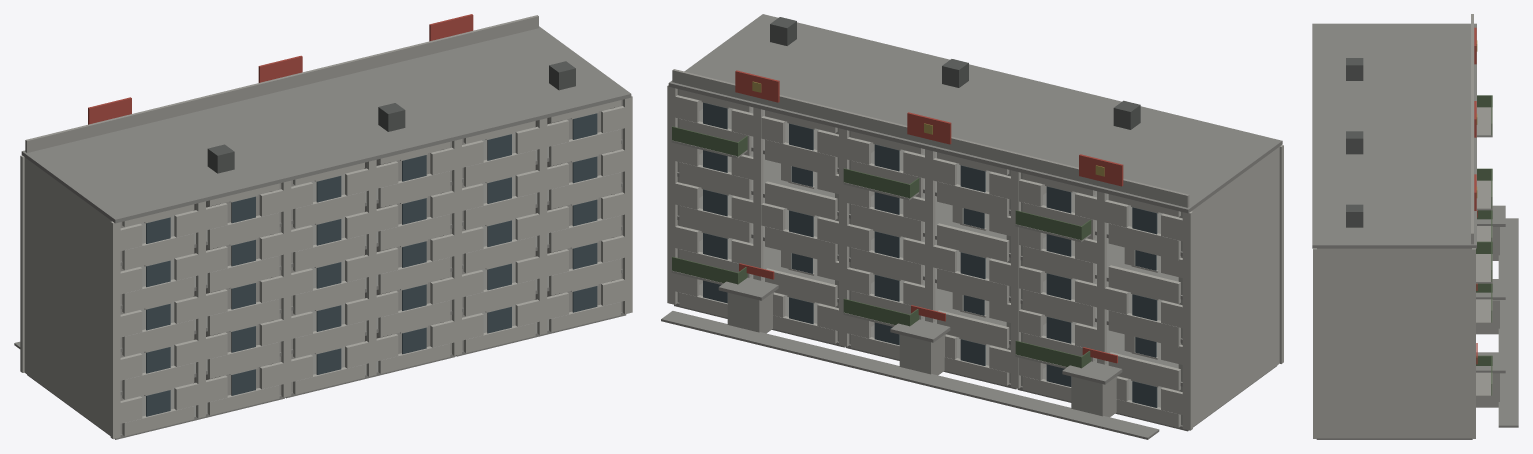
The model's file is b_khrush5.glb.
3 renders of one model, left to right at view 1: azimuth 30°, elevation 25°; view 2: azimuth 150°, elevation 25°; view 3: azimuth 270°, elevation 25°, orthographic. The views are drawn at different scales.
Visible parts, largest first — view 1: roof_s0, roof_s1, roof_s2, wall_s0_f3_r0, wall_s0_f2_r0, wall_s0_f0_r0, wall_s0_f1_r0, wall_s0_f4_r0, wall_s0_f1_w, wall_s0_f2_w, wall_s0_f3_w, wall_s0_f0_w (+33 smaller); view 2: details, roof_s0, roof_s2, roof_s1, wall_s2_f4_l1, wall_s1_f4_l1, wall_s0_f4_l1, wall_s2_f1_l1, wall_s1_f1_l1, wall_s0_f1_l1, wall_s0_f2_l0, wall_s0_f4_l0 (+34 smaller); view 3: roof_s2, roof_s0, roof_s1, details, wall_s2_f0_e, wall_s2_f1_e, wall_s2_f2_e, wall_s2_f3_e, wall_s2_f4_e, wall_s2_f4_l1, wall_s2_f1_l1, wall_s0_f4_l1 (+4 smaller).
Part boxes in pixels (left/top/right/bottom): roof_s0: left=21, top=98, right=290, bottom=223; roof_s1: left=196, top=56, right=460, bottom=180; roof_s2: left=367, top=15, right=631, bottom=139; wall_s0_f3_r0: left=110, top=244, right=205, bottom=309; wall_s0_f2_r0: left=110, top=287, right=205, bottom=352; wall_s0_f0_r0: left=110, top=373, right=205, bottom=439; wall_s0_f1_r0: left=110, top=330, right=205, bottom=395; wall_s0_f4_r0: left=110, top=201, right=205, bottom=266; wall_s0_f1_w: left=24, top=287, right=110, bottom=392; wall_s0_f2_w: left=24, top=243, right=110, bottom=348; wall_s0_f3_w: left=24, top=200, right=110, bottom=305; wall_s0_f0_w: left=24, top=330, right=110, bottom=435; details: left=661, top=70, right=1159, bottom=439; roof_s0: left=1012, top=99, right=1282, bottom=213; roof_s2: left=668, top=14, right=936, bottom=128; roof_s1: left=840, top=56, right=1110, bottom=170; wall_s2_f4_l1: left=667, top=85, right=753, bottom=158; wall_s1_f4_l1: left=839, top=128, right=924, bottom=200; wall_s0_f4_l1: left=1011, top=170, right=1096, bottom=242; wall_s2_f1_l1: left=667, top=216, right=753, bottom=284; wall_s1_f1_l1: left=839, top=258, right=924, bottom=326; wall_s0_f1_l1: left=1011, top=300, right=1096, bottom=368; wall_s0_f2_l0: left=1097, top=277, right=1192, bottom=343; wall_s0_f4_l0: left=1097, top=191, right=1192, bottom=256; roof_s2: left=1312, top=160, right=1476, bottom=248; roof_s0: left=1312, top=14, right=1476, bottom=98; roof_s1: left=1312, top=87, right=1476, bottom=171; details: left=1474, top=27, right=1518, bottom=427; wall_s2_f0_e: left=1317, top=400, right=1471, bottom=438; wall_s2_f1_e: left=1317, top=362, right=1471, bottom=400; wall_s2_f2_e: left=1317, top=324, right=1471, bottom=362; wall_s2_f3_e: left=1317, top=286, right=1471, bottom=324; wall_s2_f4_e: left=1317, top=248, right=1471, bottom=286; wall_s2_f4_l1: left=1472, top=241, right=1492, bottom=287; wall_s2_f1_l1: left=1472, top=355, right=1492, bottom=400; wall_s0_f4_l1: left=1477, top=95, right=1492, bottom=137.
Bounding box in the file's own units: 36.55 × 16.82 × 14.3.
